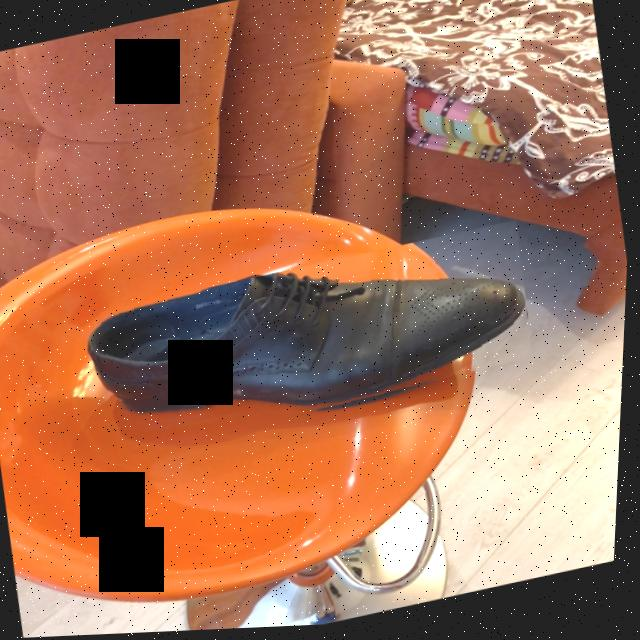shoe: (90, 275, 530, 416)
